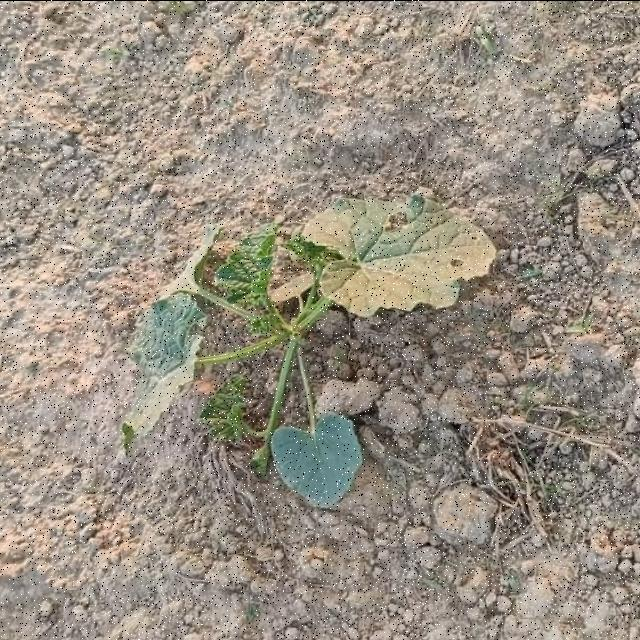plant: (122, 195, 495, 505)
